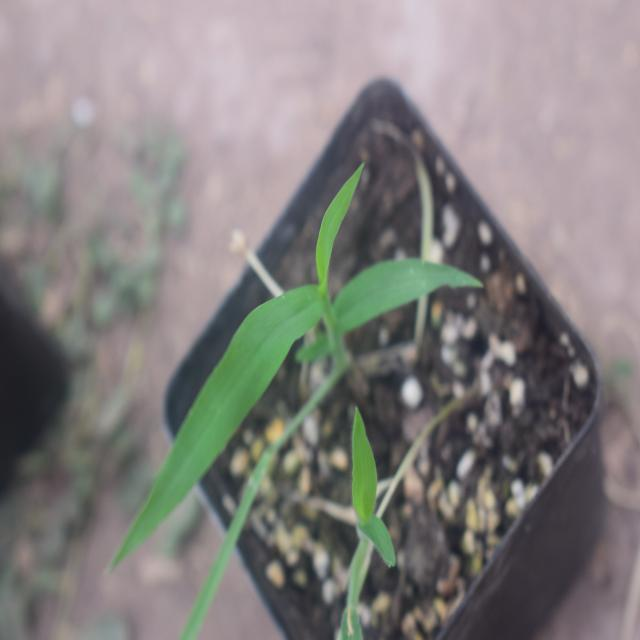crabgrass: (118, 177, 504, 468), (324, 395, 428, 580)
